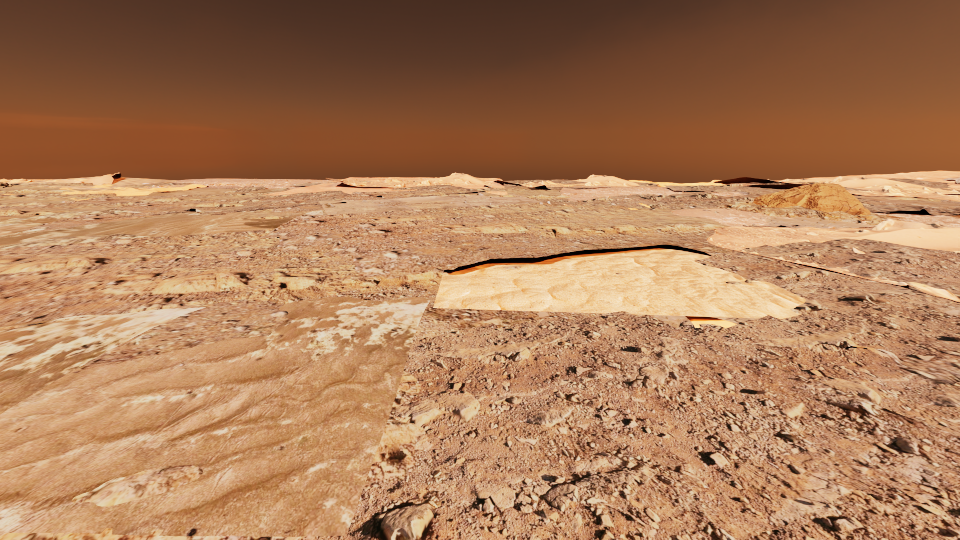bedrock: (311, 238, 959, 539), (565, 183, 959, 227), (90, 265, 443, 299), (178, 185, 578, 214), (435, 212, 724, 238), (71, 465, 202, 506), (0, 252, 207, 273), (0, 528, 255, 539), (180, 180, 322, 192), (0, 197, 88, 206), (888, 178, 952, 190), (364, 215, 464, 222), (0, 187, 95, 194), (0, 209, 80, 216), (871, 197, 959, 203), (239, 212, 301, 218), (124, 212, 177, 218), (137, 197, 210, 200), (530, 185, 562, 191), (543, 179, 586, 183), (514, 208, 552, 212), (504, 180, 541, 183), (634, 182, 658, 186), (844, 187, 871, 190), (0, 182, 13, 187), (504, 184, 524, 187), (538, 311, 548, 316), (725, 281, 741, 284), (503, 266, 520, 268)
rocks: (753, 183, 870, 215), (943, 177, 959, 183)
sand: (0, 297, 429, 539), (433, 245, 805, 328), (0, 210, 322, 248), (31, 177, 241, 196), (249, 181, 414, 194), (841, 171, 959, 189), (628, 180, 729, 186), (452, 178, 503, 188), (222, 244, 277, 252), (387, 177, 424, 181), (340, 177, 385, 180), (808, 177, 836, 180), (487, 191, 507, 194)
soil: (0, 183, 922, 369), (0, 193, 269, 231), (413, 295, 604, 340), (787, 260, 959, 302), (125, 179, 421, 188), (847, 186, 959, 208), (341, 189, 468, 200), (363, 464, 416, 488), (247, 205, 323, 215), (886, 211, 954, 222), (713, 179, 790, 188), (0, 182, 94, 188), (0, 323, 42, 328), (386, 202, 430, 205), (202, 186, 252, 188), (278, 199, 305, 202), (837, 177, 855, 181), (251, 537, 285, 539)
